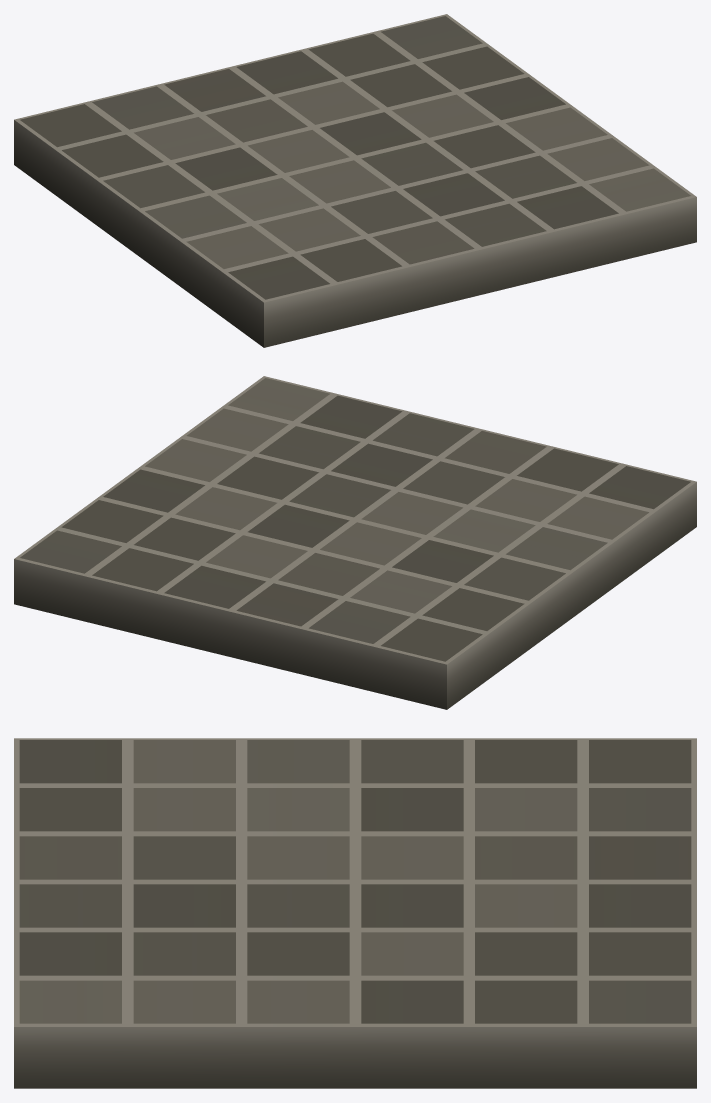
Rendered from Pavement_1Q_3X3.fbx.
3 renders of one model, top to bottom at view 1: azimuth 30°, elevation 25°; view 2: azimuth 150°, elevation 25°; view 3: azimuth 270°, elevation 25°, orthographic. The views are drawn at different scales.
Visible parts, largest first — view 1: Pavement_1Q_3X3; view 2: Pavement_1Q_3X3; view 3: Pavement_1Q_3X3.
Part boxes in pixels (x1,y1,x2,y2): Pavement_1Q_3X3: (14,14,696,347); Pavement_1Q_3X3: (14,376,696,709); Pavement_1Q_3X3: (14,738,696,1088).
Size of the model in its own units: 3 by 0.3031 by 3.
